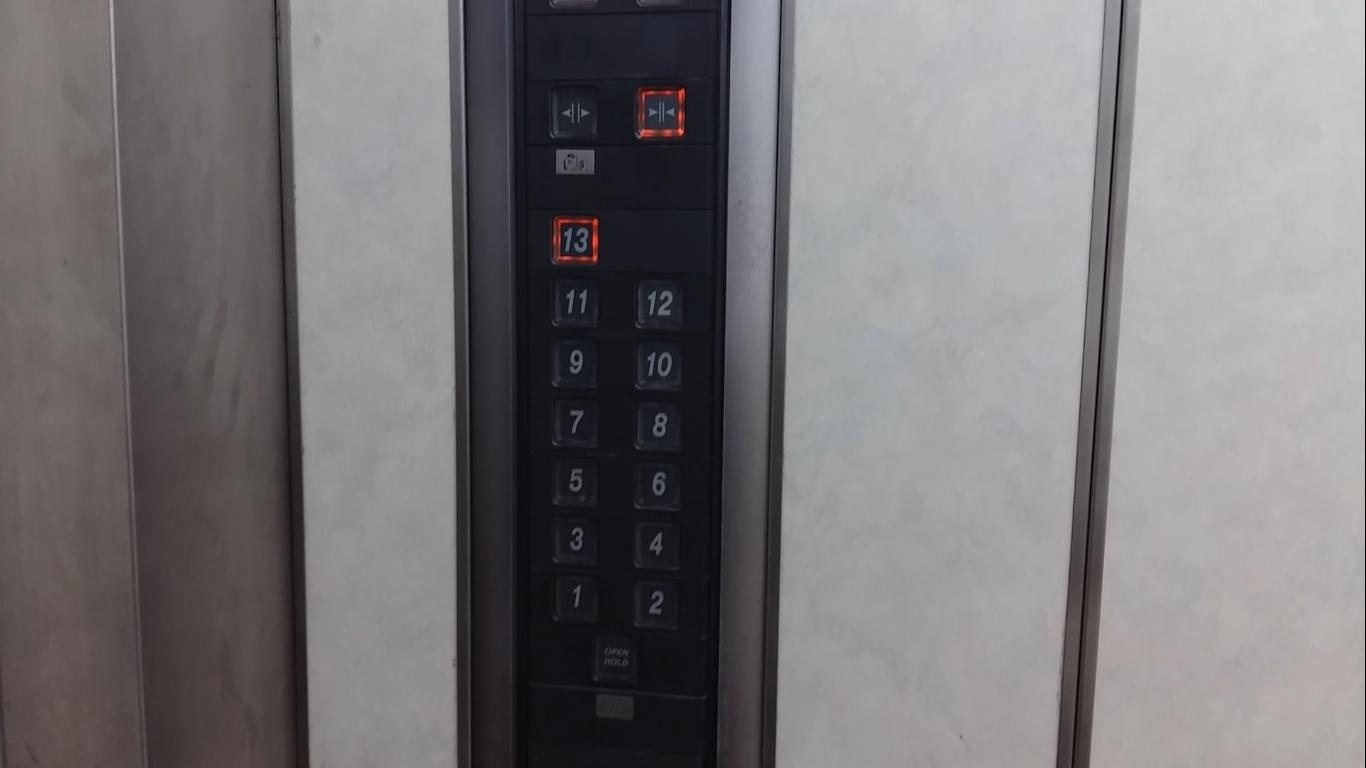1: (550, 571, 603, 626)
10: (632, 337, 686, 392)
11: (549, 272, 603, 327)
12: (631, 275, 685, 330)
13: (548, 212, 602, 267)
2: (631, 577, 683, 630)
3: (550, 511, 604, 566)
4: (632, 519, 685, 572)
5: (549, 454, 603, 509)
6: (631, 457, 685, 512)
7: (547, 392, 601, 447)
8: (631, 399, 685, 454)
9: (548, 334, 602, 389)
close: (632, 82, 689, 141)
open: (544, 83, 605, 144)
text_open hold: (590, 631, 642, 684)
